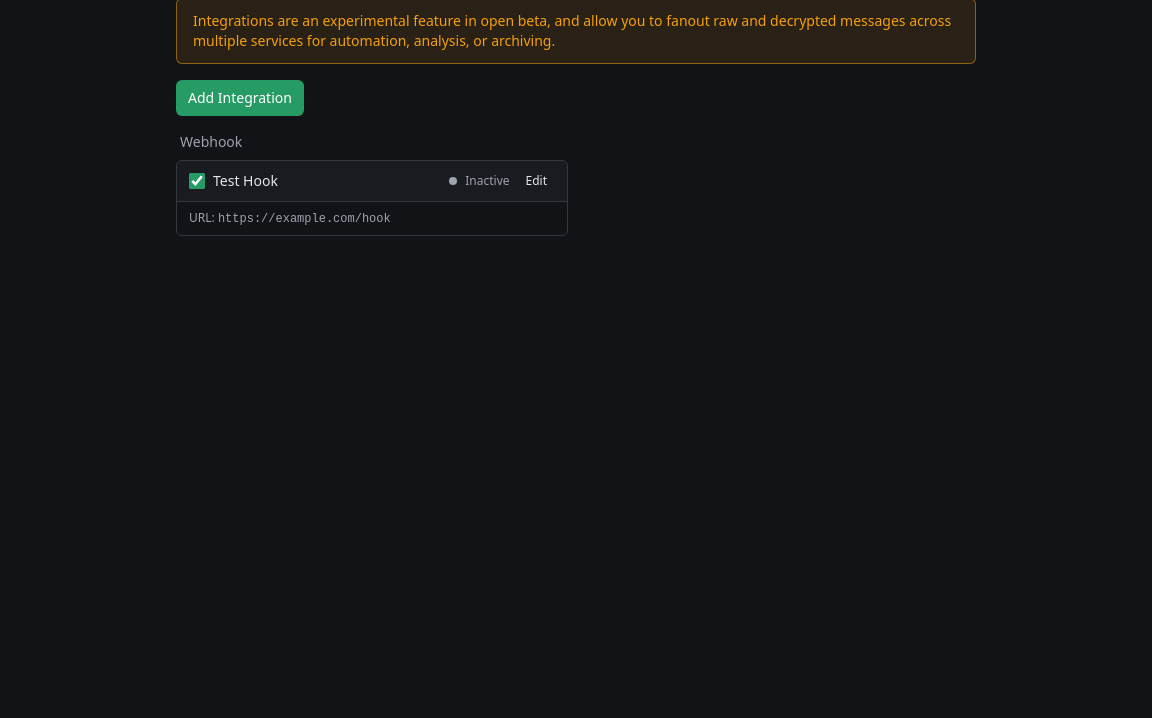
SettingsFanoutSection › save as enabled returns to list even if health refresh fails
Expected: the button "Test Hook" is shown, [213,171,278,191]
Click the button "Edit". click: {"x": 536, "y": 181}
box: [518,169,555,193]
(page scrolled)
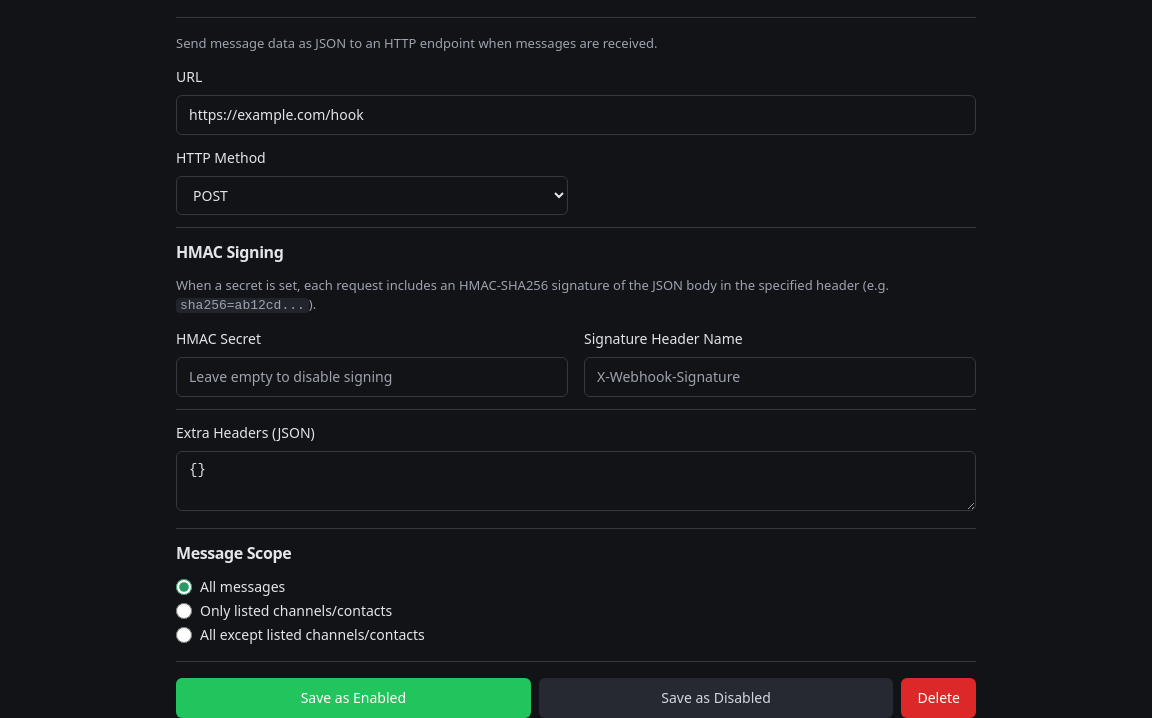
Click the button "Save as Enabled". click: {"x": 353, "y": 698}
box: [176,678,531,717]
(page scrolled)
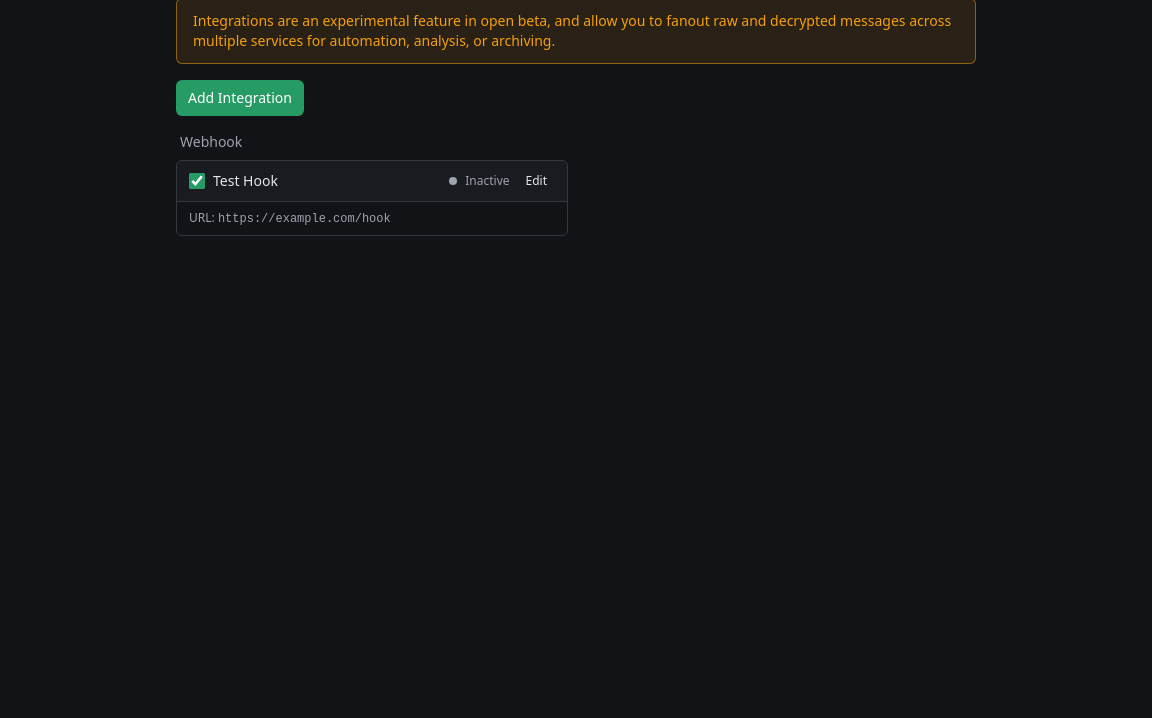
Now the button "Test Hook" is shown, box [213,171,278,191]
